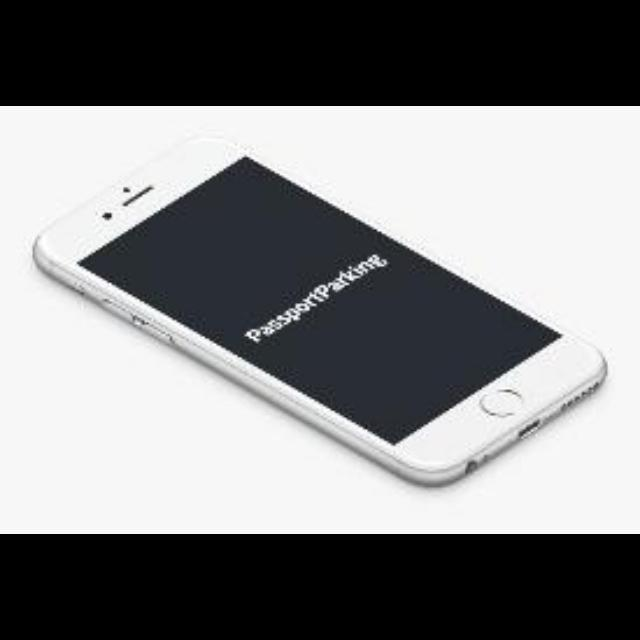phone: (17, 151, 619, 489)
